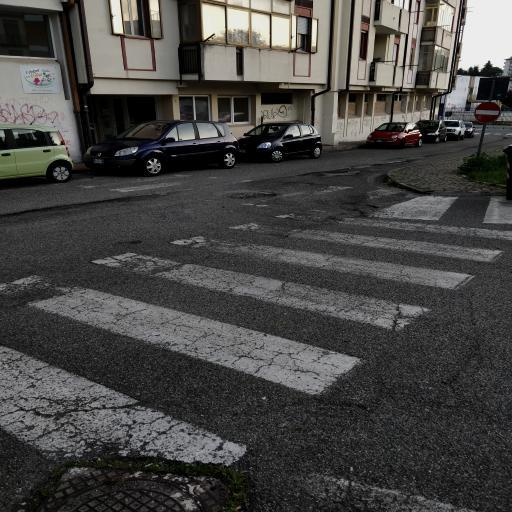crosswalk: (77, 225, 482, 336)
